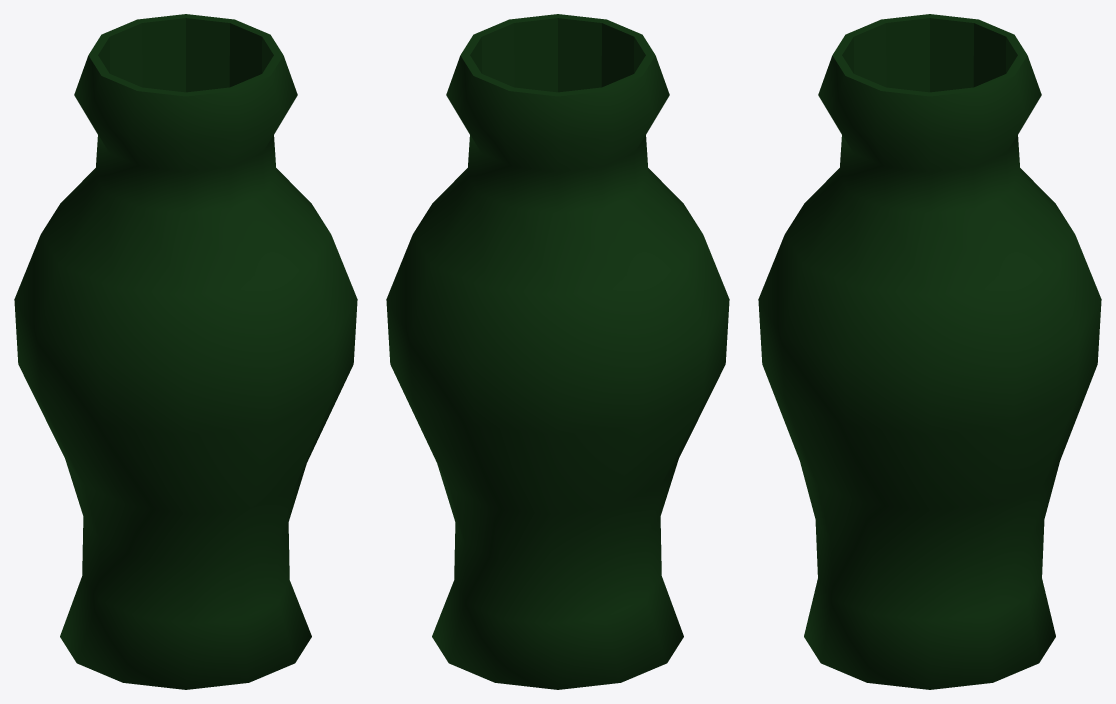
File: jarrón.FBX
3 views of the same model, side by side, from view 1: azimuth 30°, elevation 25°; view 2: azimuth 150°, elevation 25°; view 3: azimuth 270°, elevation 25° (orthographic).
Parts seen in each view (by area): view 1: Object002; view 2: Object002; view 3: Object002.
Part boxes in pixels (x1,y1,x2,y2): Object002: [14, 14, 357, 689]; Object002: [386, 14, 729, 689]; Object002: [758, 14, 1101, 689].
Size of the model in its own units: 1318 by 2464 by 1318.
